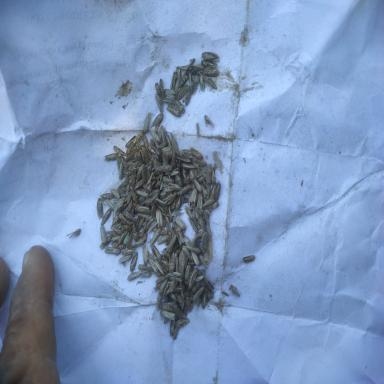pbw: (204, 236, 214, 264), (171, 163, 185, 182), (156, 176, 170, 195), (164, 234, 178, 252), (148, 258, 161, 277), (145, 188, 160, 204), (151, 113, 164, 131), (201, 270, 212, 290), (188, 267, 199, 287), (100, 208, 112, 226), (200, 51, 221, 61), (154, 92, 163, 115), (200, 232, 210, 252), (189, 146, 203, 160), (191, 286, 205, 300), (179, 60, 193, 74), (118, 212, 132, 226), (173, 98, 186, 113), (158, 278, 170, 294), (155, 207, 164, 228), (165, 190, 176, 207), (191, 72, 199, 95), (148, 228, 161, 242), (130, 236, 143, 250), (99, 235, 112, 249), (176, 184, 191, 196), (166, 106, 181, 118), (182, 244, 192, 262), (170, 134, 179, 154), (175, 227, 185, 245), (214, 180, 222, 202), (150, 243, 161, 259), (143, 112, 151, 134), (157, 301, 173, 312), (204, 164, 213, 183), (130, 252, 139, 271), (128, 269, 142, 281), (149, 128, 161, 142), (204, 76, 218, 88), (172, 304, 186, 316), (148, 145, 160, 159), (179, 72, 189, 88), (174, 317, 190, 327), (188, 218, 198, 234), (174, 194, 184, 210), (175, 64, 183, 84), (174, 216, 186, 229), (96, 197, 103, 219), (229, 284, 240, 298), (168, 255, 176, 274), (154, 81, 162, 100), (178, 82, 188, 97), (192, 179, 202, 194), (133, 130, 143, 145), (134, 178, 146, 190), (160, 310, 176, 319), (172, 325, 181, 341), (192, 229, 204, 241), (100, 226, 108, 244), (169, 72, 178, 88), (155, 258, 164, 274), (163, 87, 176, 98), (184, 263, 191, 283), (114, 196, 124, 210), (139, 263, 153, 273), (199, 71, 206, 91), (198, 254, 208, 268), (186, 244, 200, 254), (204, 66, 218, 76), (198, 217, 208, 231), (162, 149, 170, 166), (103, 246, 120, 254), (111, 241, 126, 250), (179, 252, 185, 274), (198, 194, 204, 216), (148, 222, 158, 235), (125, 134, 135, 147), (242, 254, 255, 264), (113, 146, 126, 156), (188, 167, 196, 183), (184, 293, 192, 309), (142, 147, 150, 163), (142, 244, 148, 265), (136, 190, 150, 199), (200, 60, 218, 67), (179, 282, 186, 300), (105, 199, 115, 211), (104, 153, 119, 161), (142, 135, 150, 150), (126, 150, 136, 162), (192, 251, 200, 266), (164, 214, 170, 234), (160, 125, 167, 142), (168, 283, 177, 296), (156, 164, 172, 171), (166, 270, 182, 277), (160, 97, 174, 105), (171, 152, 178, 168), (118, 178, 129, 188), (112, 216, 120, 229), (140, 166, 146, 183), (110, 188, 120, 198), (129, 161, 140, 170), (203, 199, 214, 208), (162, 176, 176, 183), (117, 255, 131, 262), (138, 217, 145, 231), (166, 183, 182, 189), (176, 156, 192, 162), (122, 223, 134, 231), (119, 161, 124, 180), (185, 90, 191, 105), (182, 162, 192, 171), (155, 277, 170, 283), (206, 291, 215, 301), (148, 170, 154, 184), (137, 207, 149, 214), (203, 288, 207, 308), (119, 230, 127, 240), (151, 204, 156, 220), (170, 317, 174, 336), (133, 224, 137, 241), (160, 77, 164, 94), (126, 194, 132, 205), (106, 230, 117, 236), (150, 137, 156, 148), (138, 153, 144, 164), (127, 201, 133, 212), (100, 193, 112, 198), (136, 147, 143, 154), (170, 170, 178, 175), (128, 182, 132, 192), (122, 251, 135, 254), (192, 64, 205, 67), (127, 241, 131, 248), (184, 164, 186, 178)
